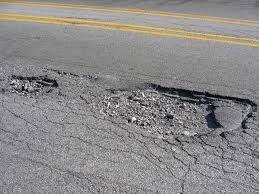Pothole: (93, 75, 258, 144), (4, 68, 64, 102)
